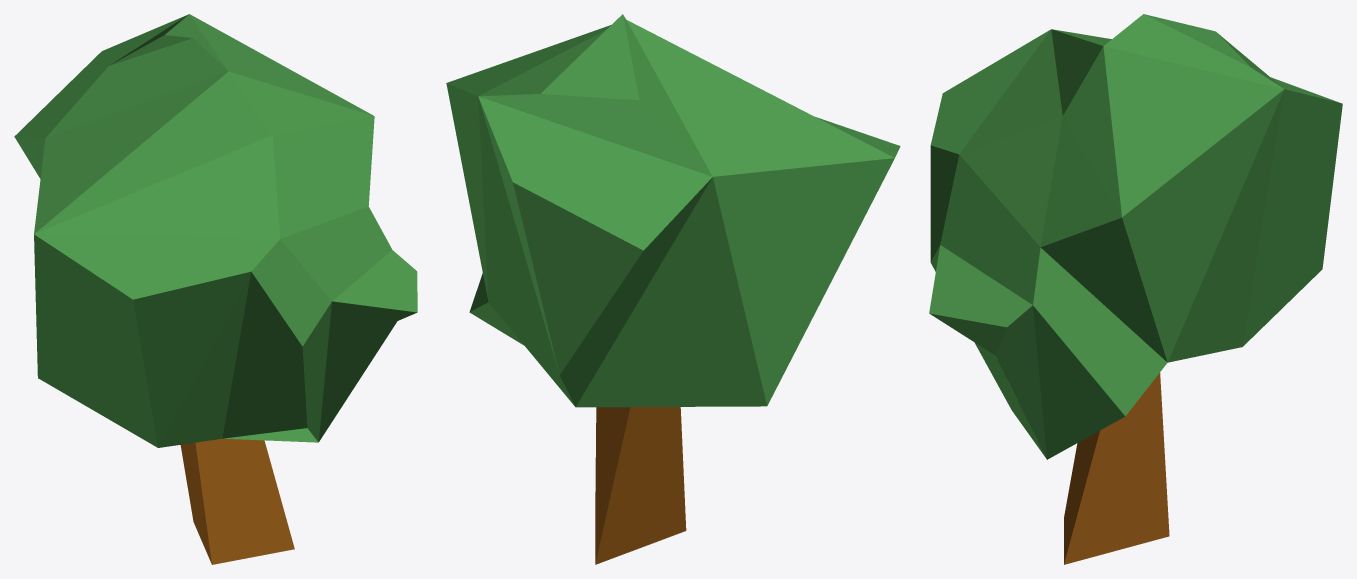
File: Tree_3.fbx
3 views of the same model, side by side, from view 1: azimuth 30°, elevation 25°; view 2: azimuth 150°, elevation 25°; view 3: azimuth 270°, elevation 25° (orthographic). The views are drawn at different scales.
Visible parts, largest first — view 1: LeafyTree.002; view 2: LeafyTree.002; view 3: LeafyTree.002.
Part boxes in pixels (x1=…): LeafyTree.002: x1=14, y1=14, x2=417, y2=564; LeafyTree.002: x1=446, y1=14, x2=900, y2=564; LeafyTree.002: x1=929, y1=14, x2=1342, y2=564.
Bounding box in the file's own units: 0.733 × 0.9319 × 0.6735.
